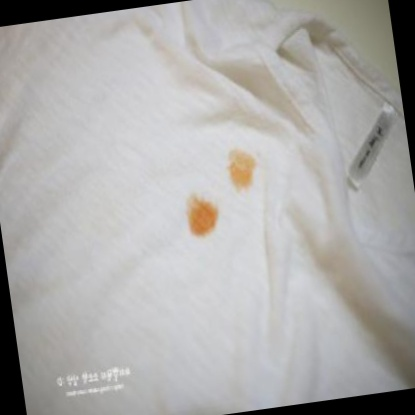kimchi: (221, 146, 256, 193), (185, 196, 222, 240)
